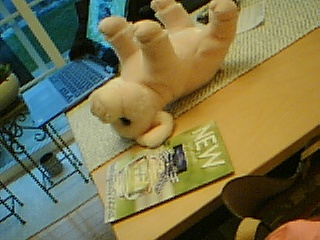piggy: (88, 1, 241, 149)
